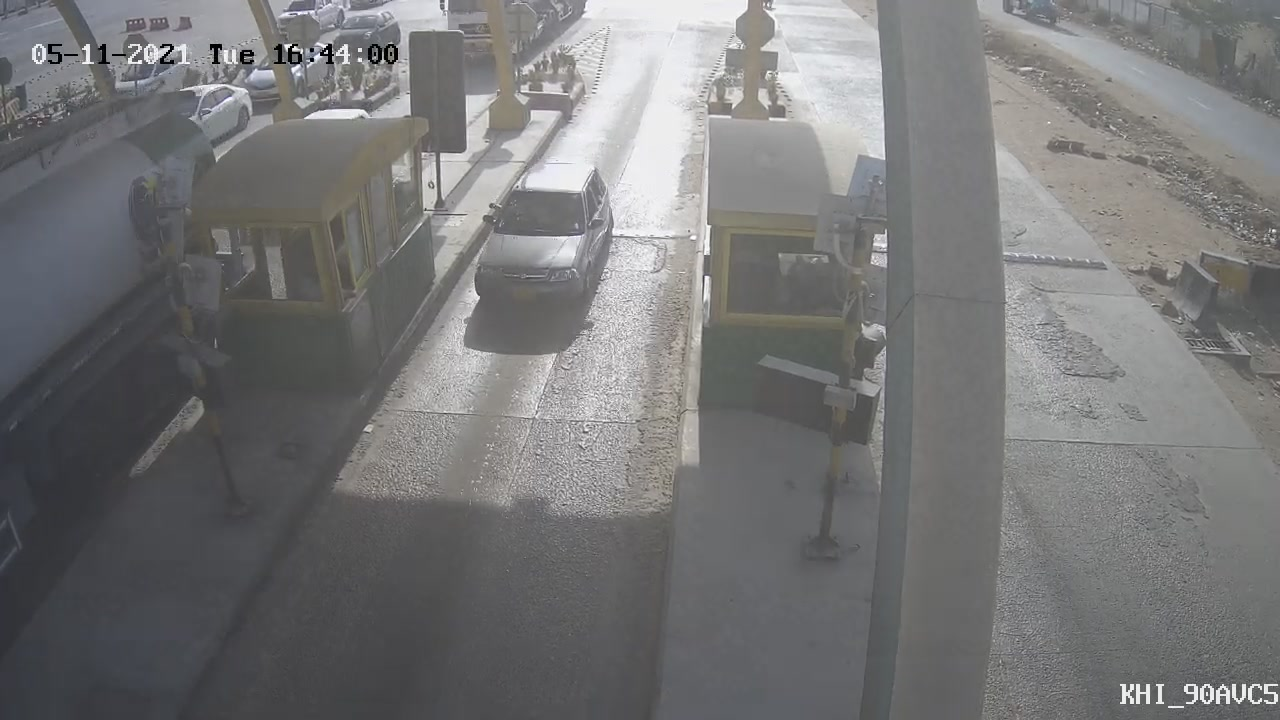F1: (457, 148, 629, 327)
